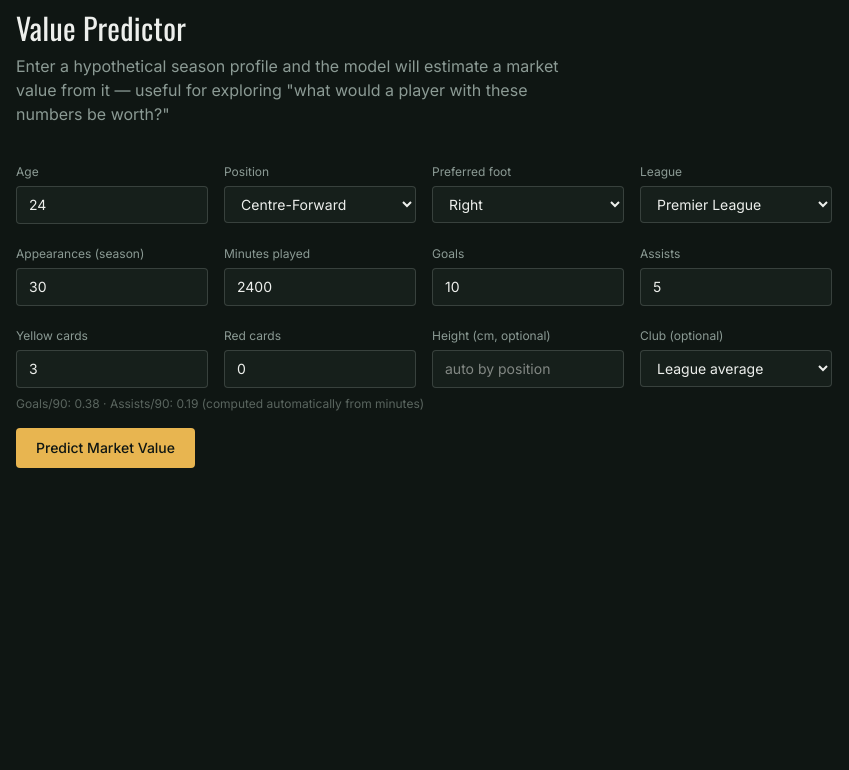
Test case: Predictor › submits the form and displays the predicted value
The width and height of the screenshot is (849, 770).
Click the button "Predict Market Value" at (106, 448), box [16,428,195,468]
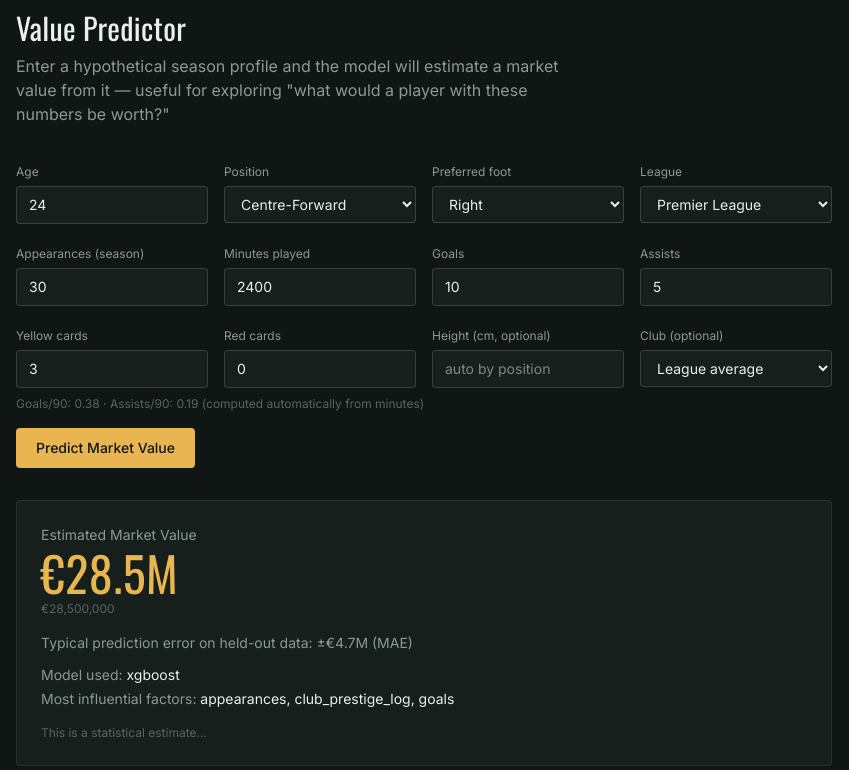
Expected: the text "€28.5M" is shown, [41,537,178,608]
Expected: the text "xgboost" is shown, [126,666,180,683]
